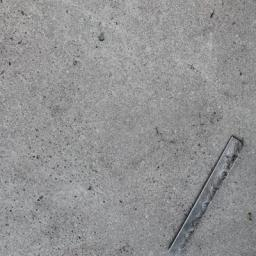FOD: (167, 134, 254, 256)
